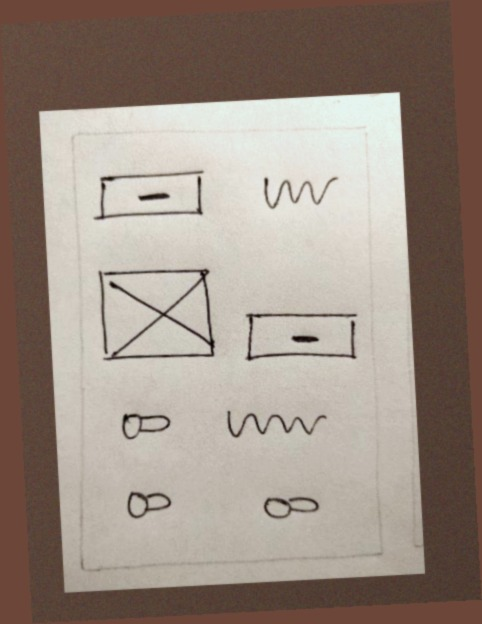button: (234, 299, 366, 372), (87, 165, 212, 228)
image: (91, 259, 223, 369)
switch: (260, 483, 326, 527), (120, 480, 188, 522), (112, 408, 177, 445)
text: (216, 398, 334, 447), (253, 162, 347, 219)
